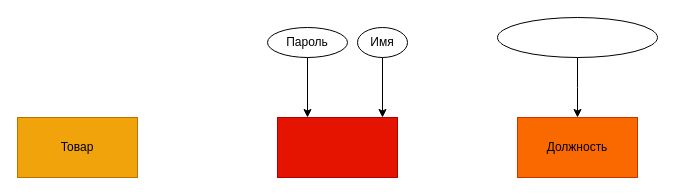
Image size: 675x195. Some labels were removed from this diagram. Each missing label, with the centre of its shape:
Название: pixel 577 37
Пользователь: pixel 337 147
